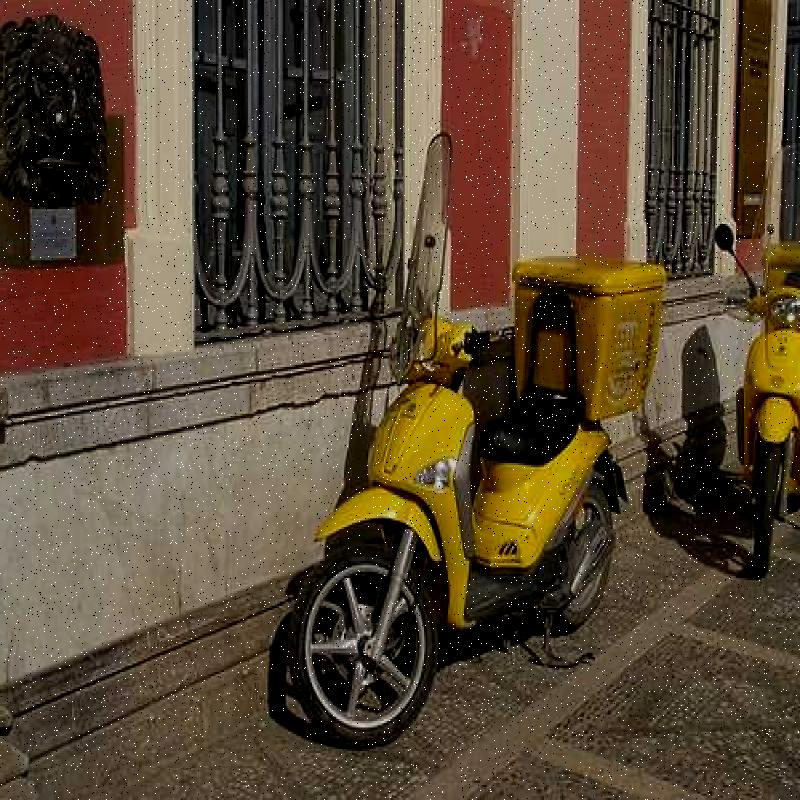bike: (286, 224, 642, 732)
